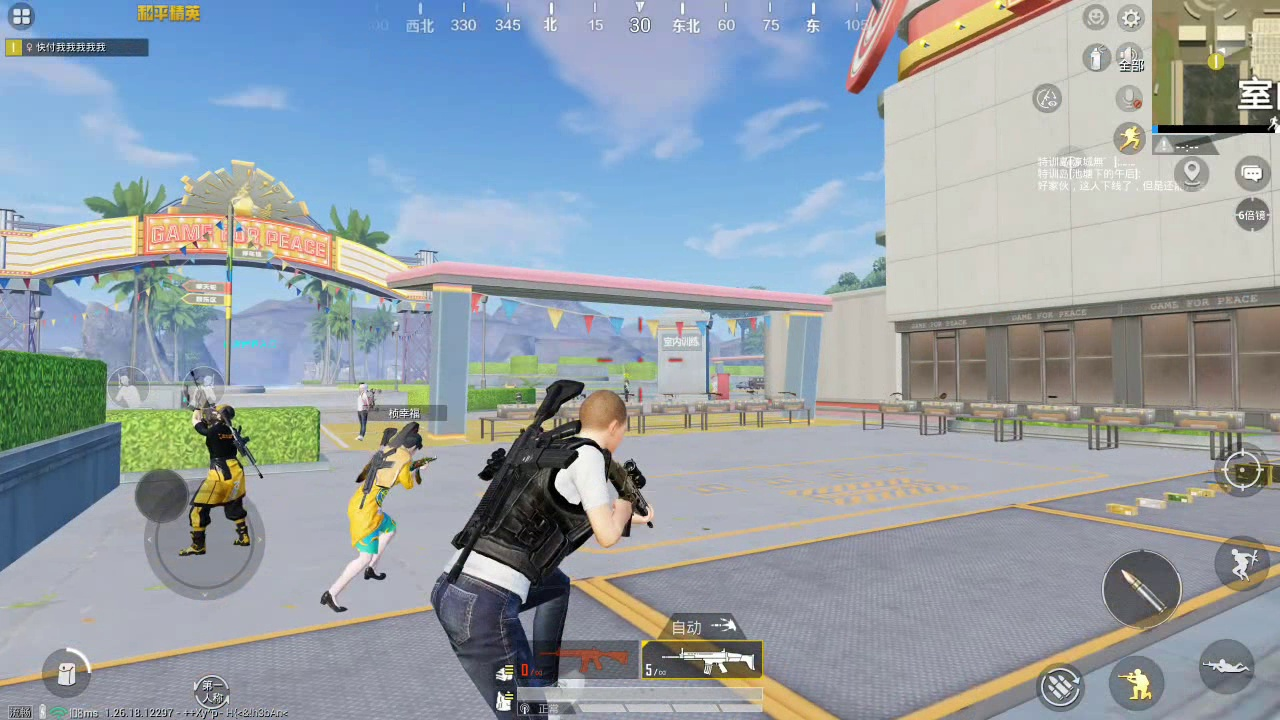enemy: (319, 421, 427, 609), (182, 385, 252, 543), (351, 382, 372, 440)
